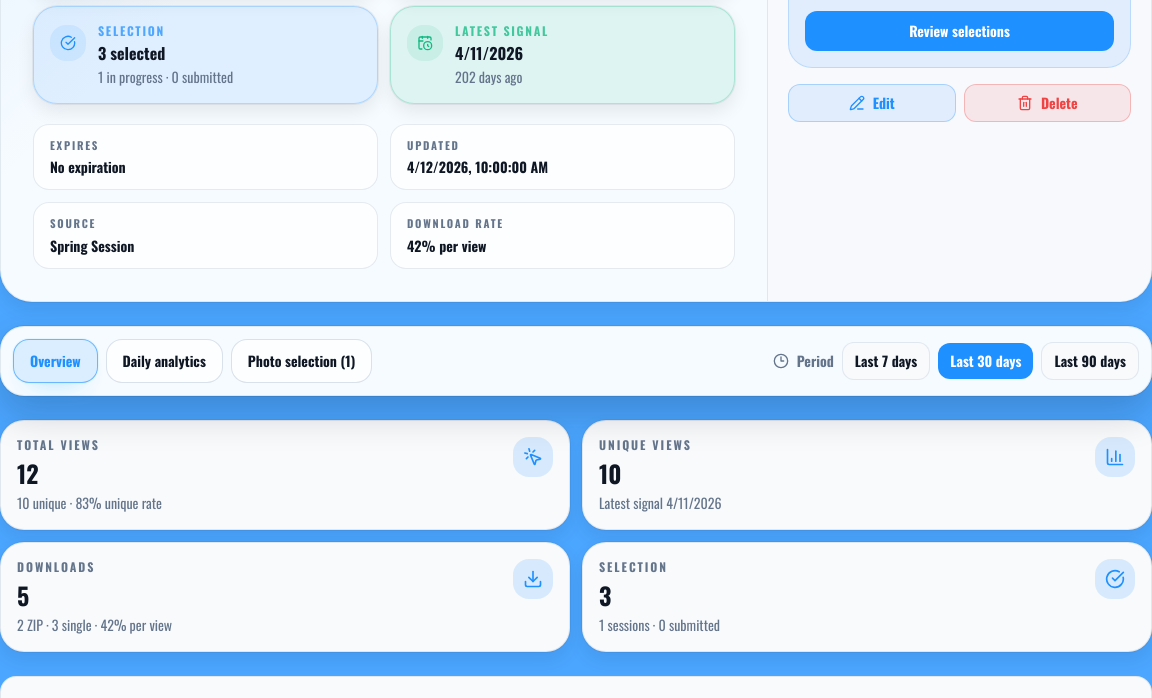
Scenario: ShareLinkDetailPage › ignores a stale session-detail response after filters clear the selection
(page scrolled)
Click the tab "Photo selection (1)".
click(302, 361)  # box [231, 339, 372, 383]
(page scrolled)
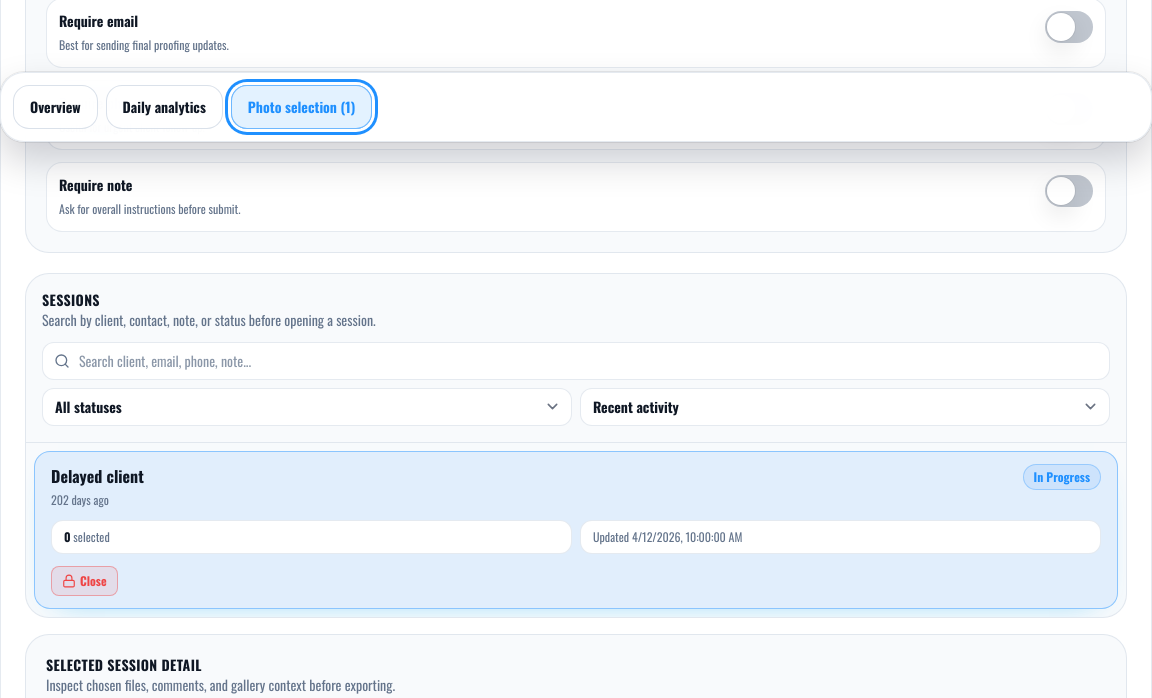
Type "Nobody" into the field with placeholder "Search client, email, phone, note...".
click(576, 361); type("Nobody")  # box [42, 342, 1110, 380]
(page scrolled)
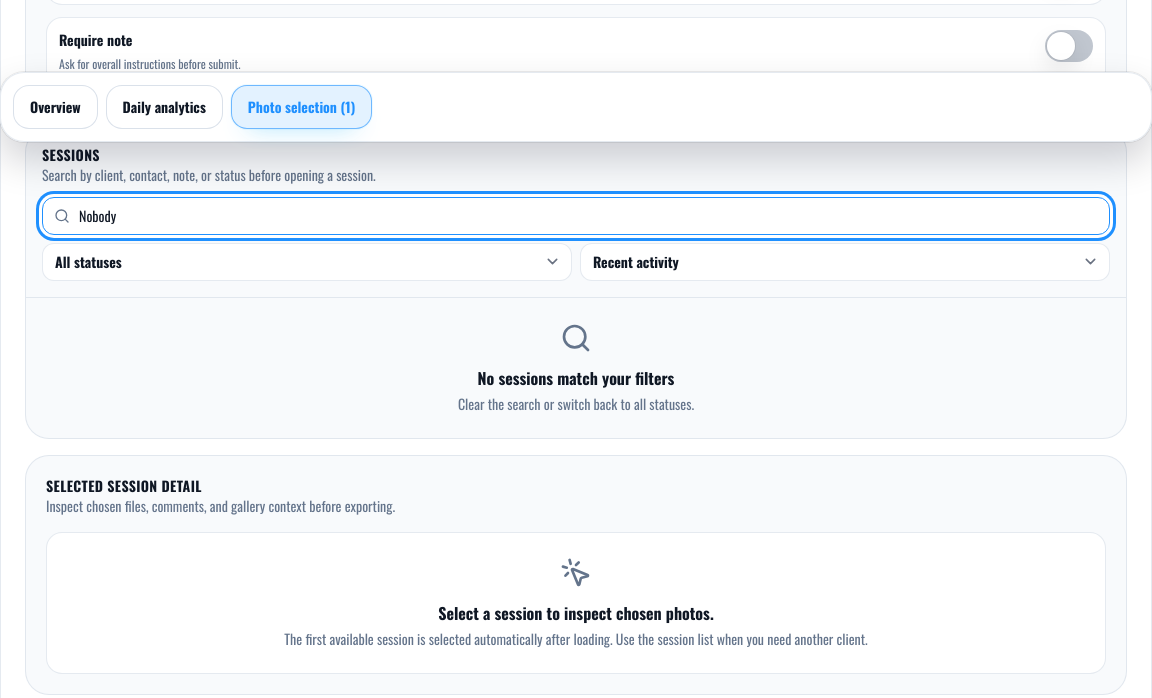
Result: the text "Select a session to inspect chosen photos." is shown at [438, 601, 714, 625]
Result: the text "No sessions match your filters" is shown at [478, 366, 674, 390]
